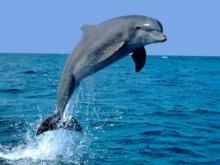fish: (35, 14, 167, 133)
